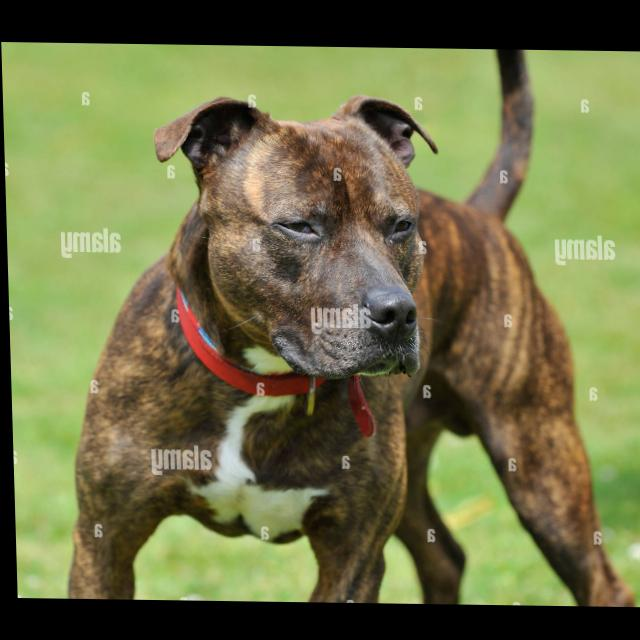am_pit_bull_terrier: (51, 44, 633, 606)
